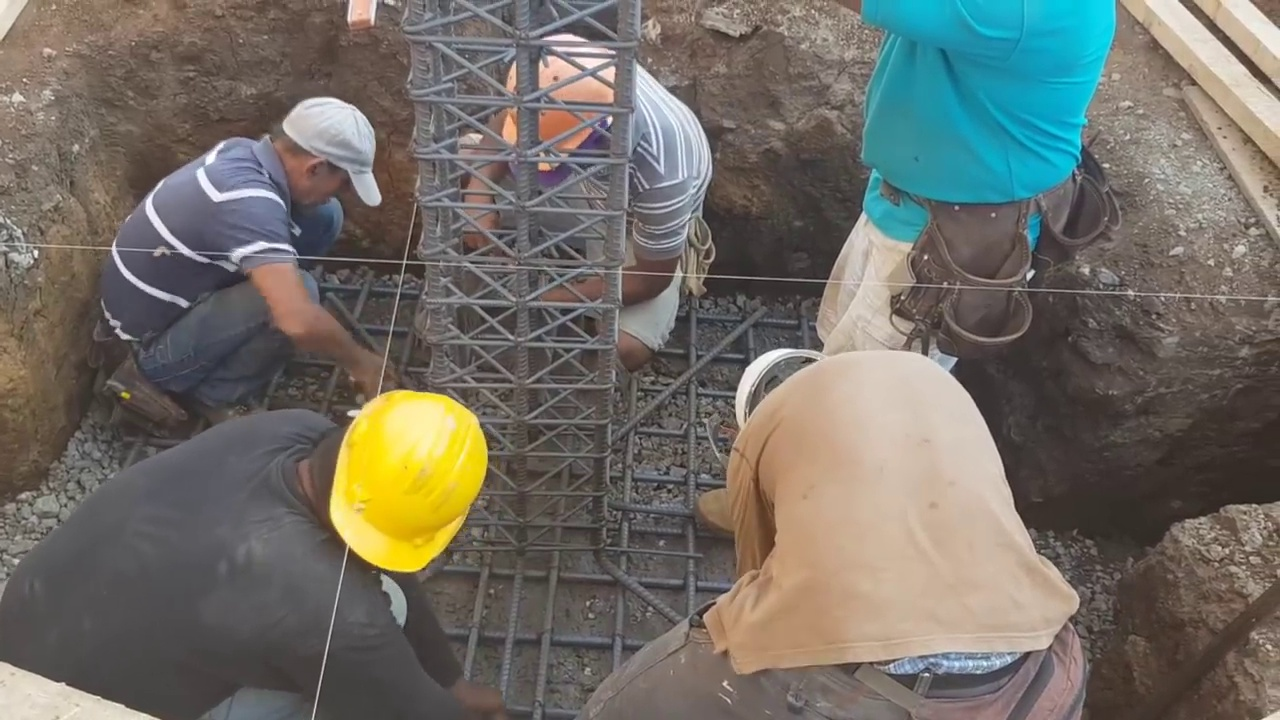helmet: (325, 388, 487, 574), (492, 57, 626, 167), (729, 349, 820, 426)
helmet-off: (276, 94, 380, 211)
helmet-on: (286, 389, 485, 575), (491, 52, 636, 197), (733, 339, 834, 436)
person: (574, 340, 1092, 717), (0, 388, 520, 720), (811, 0, 1117, 372), (90, 81, 402, 425), (465, 34, 712, 380)
